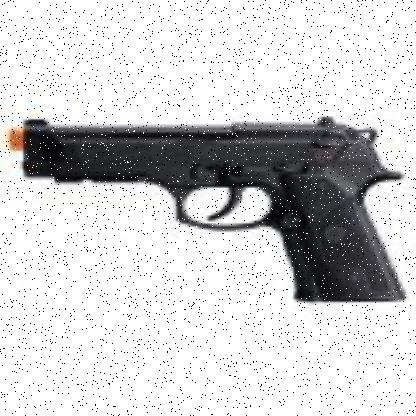gun: (15, 106, 397, 314)
